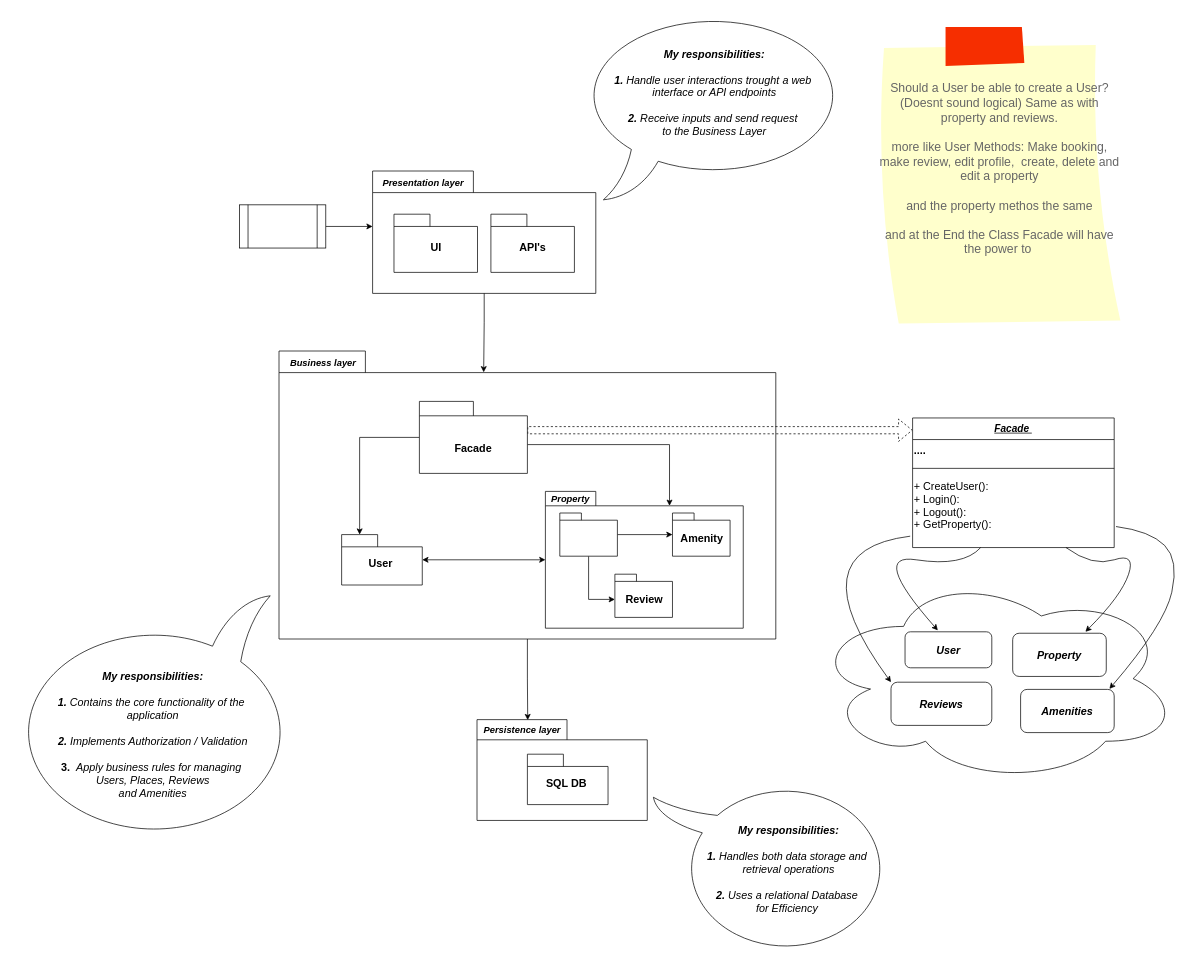
The diagram is 1192 pixels wide and 968 high, and some of its shapes have lost their labels. Each missing label, with the centre of its shape:
Client: the point at 282,226
Place: the point at 588,534
